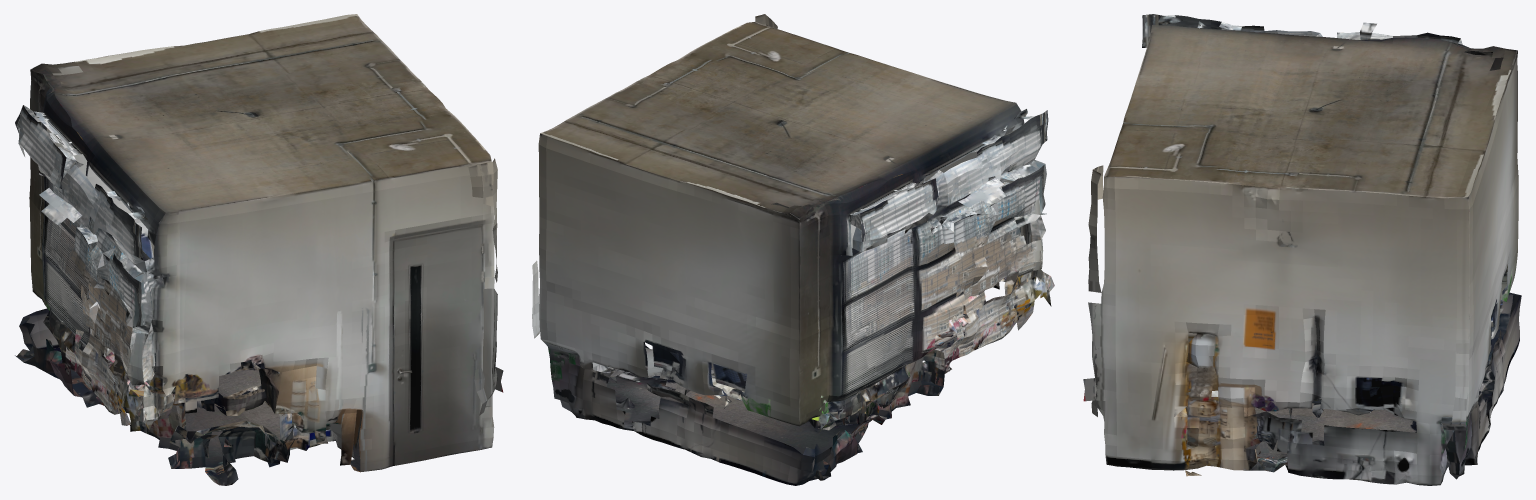
File: simple.fbx
The picture shows the model from 3 angles, left to right: view 1: azimuth 30°, elevation 25°; view 2: azimuth 150°, elevation 25°; view 3: azimuth 270°, elevation 25°; orthographic projection. The views are drawn at different scales.
Visible parts, largest first — view 1: simple; view 2: simple; view 3: simple.
Part boxes in pixels (x1,y1,x2,y2): simple: [15, 14, 503, 485]; simple: [532, 14, 1054, 485]; simple: [1083, 14, 1521, 485].
Bounding box in the file's own units: 464 × 331 × 432.
Materials: 1 (1 with a texture image).
